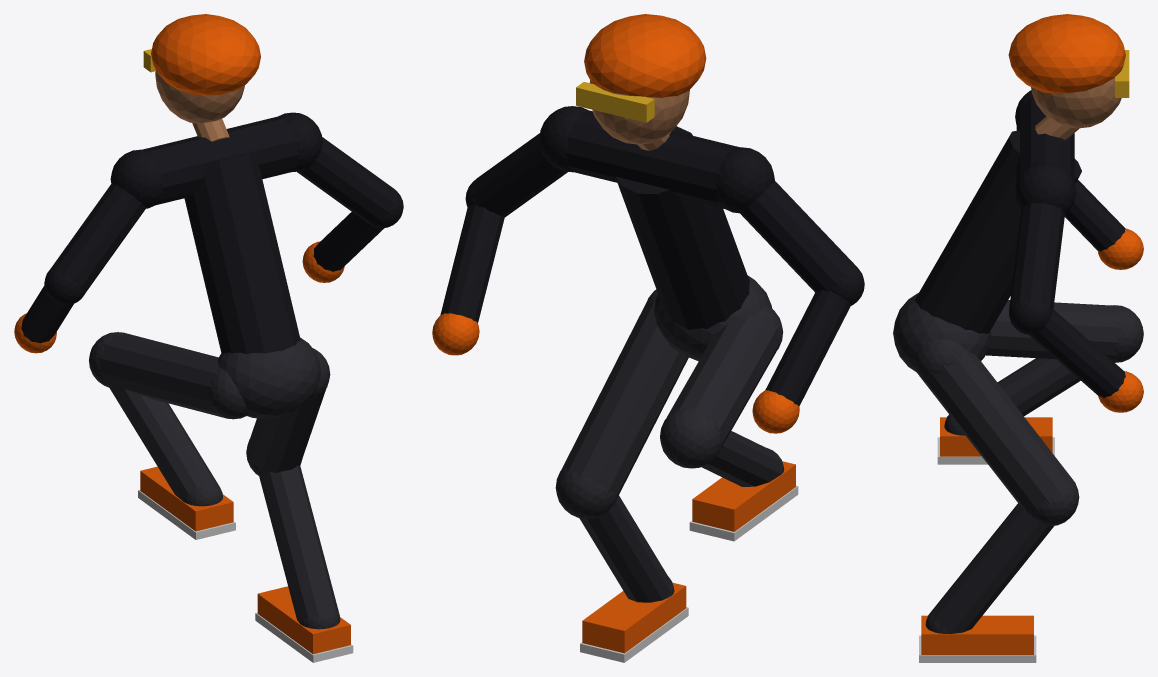
File: rider-2.glb
3 renders of one model, left to right at view 1: azimuth 30°, elevation 25°; view 2: azimuth 150°, elevation 25°; view 3: azimuth 270°, elevation 25°, orthographic. The views are drawn at different scales.
Visible parts, largest first — view 1: rider_legs, rider_torso, rider_arms, rider_head; view 2: rider_legs, rider_torso, rider_arms, rider_head; view 3: rider_legs, rider_torso, rider_arms, rider_head.
Boxes of the visible parts, x1,y1,x2,y2 form: rider_legs: [89, 332, 353, 662]; rider_torso: [110, 112, 322, 418]; rider_arms: [14, 137, 403, 353]; rider_head: [143, 14, 260, 141]; rider_legs: [555, 289, 798, 662]; rider_torso: [539, 106, 774, 361]; rider_arms: [432, 133, 864, 433]; rider_head: [576, 14, 706, 150]; rider_legs: [913, 300, 1143, 662]; rider_torso: [893, 90, 1081, 372]; rider_arms: [1009, 180, 1143, 412]; rider_head: [1008, 14, 1129, 139].
Size of the model in its own units: 1.02 by 1.65 by 0.6197.
